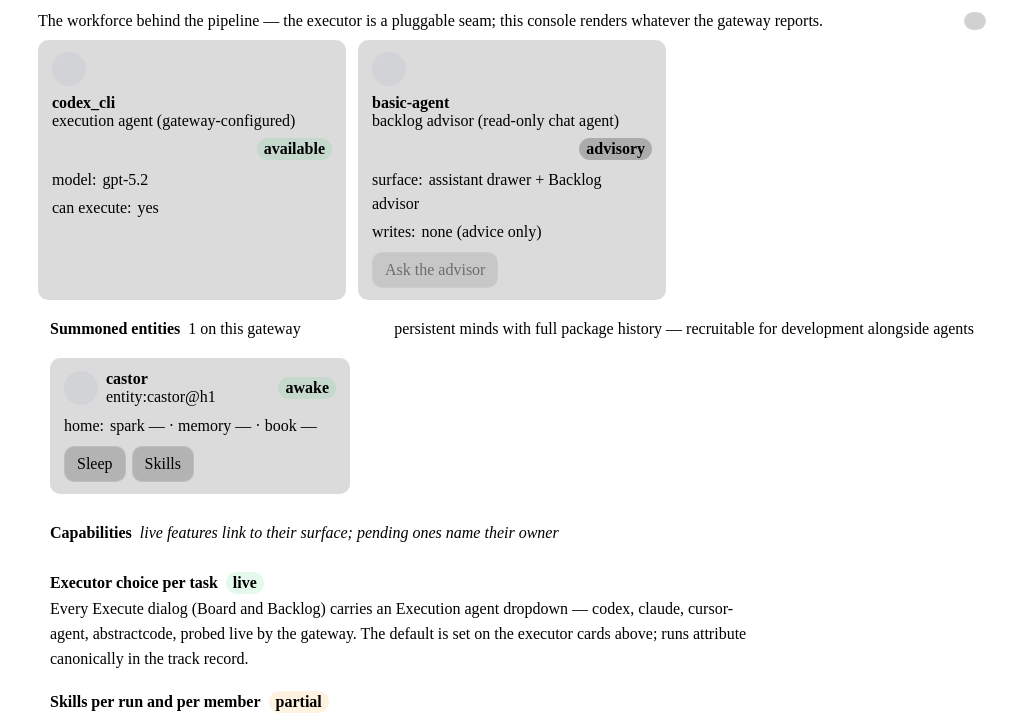
Test: AgentsPage (workforce console) › renders the verb refusal verbatim (the gateway is the authority)
Click the button "Sleep" at (95, 464), box [64,446,126,482]
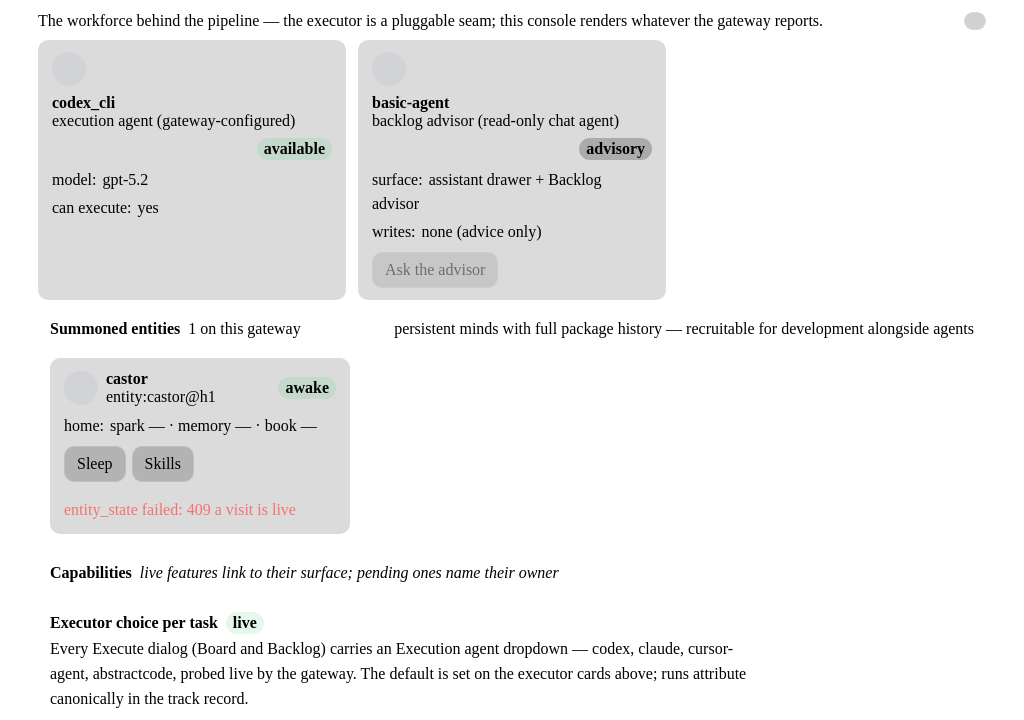
Expected: the text "entity_state failed: 409 a visit is live" is shown, [64,498,336,522]
